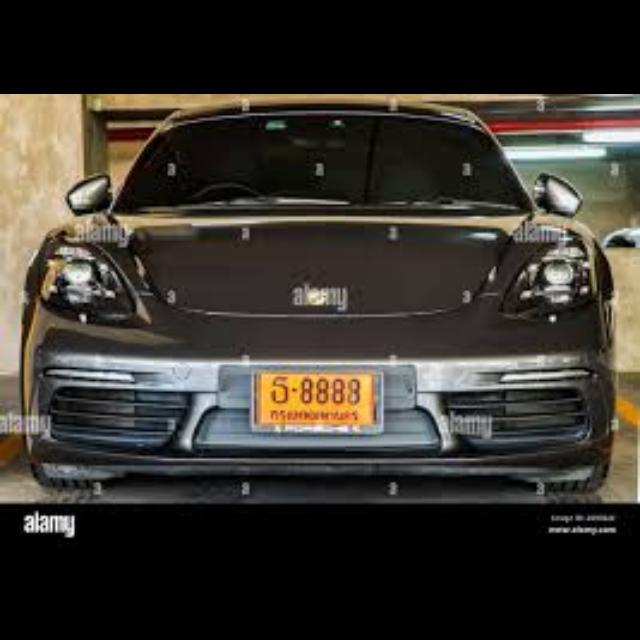licenseplate: (251, 364, 387, 434)
